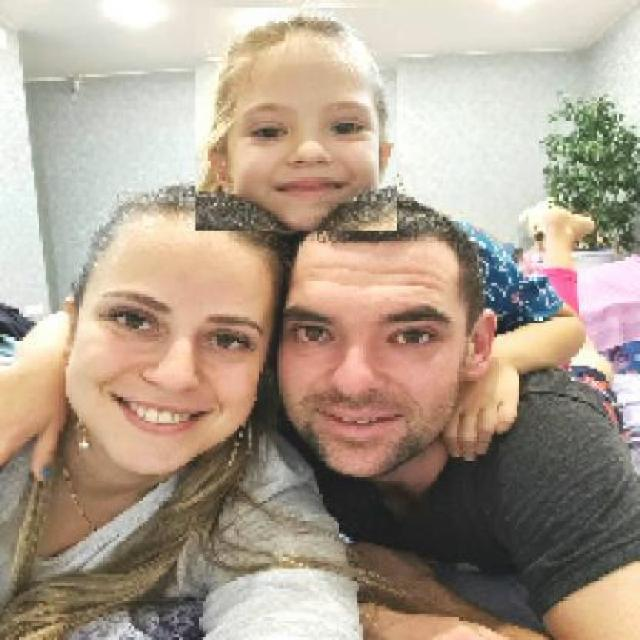child: (194, 8, 397, 232)
